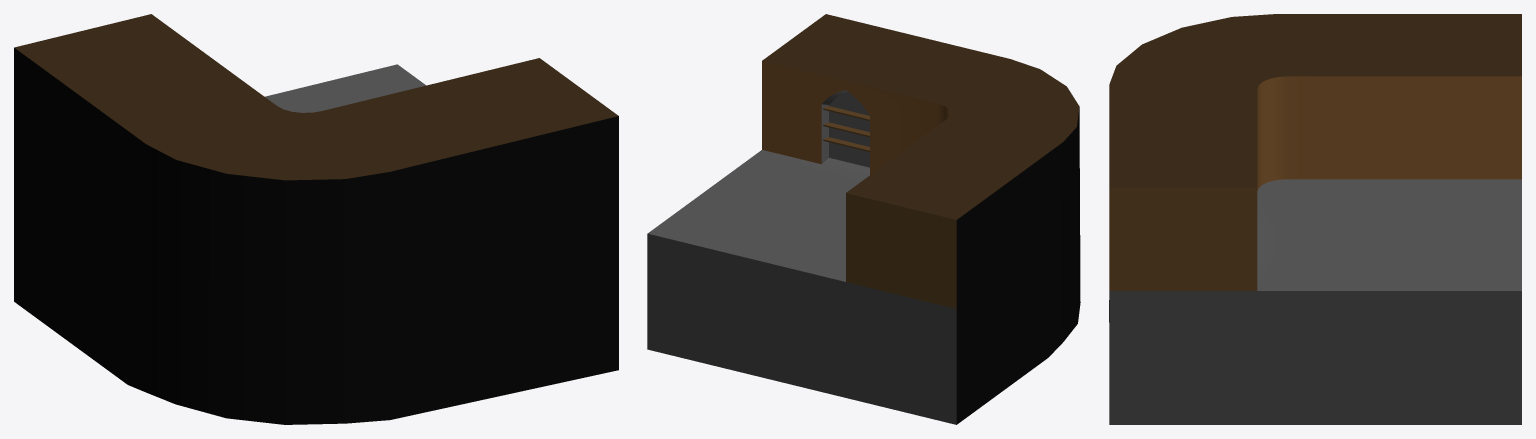
The model's file is block.fbx.
3 views of the same model, side by side, from view 1: azimuth 30°, elevation 25°; view 2: azimuth 150°, elevation 25°; view 3: azimuth 270°, elevation 25° (orthographic). The views are drawn at different scales.
Parts seen in each view (by area): view 1: block; view 2: block; view 3: block.
Part boxes in pixels (x1=…): block: x1=14, y1=14, x2=618, y2=424; block: x1=647, y1=14, x2=1080, y2=424; block: x1=1109, y1=14, x2=1521, y2=424.
Size of the model in its own units: 10.92 by 6.91 by 10.92.
